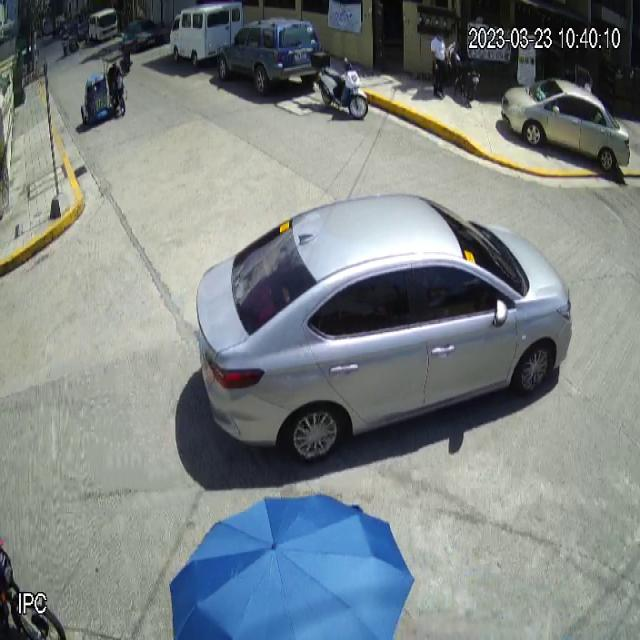Car: (192, 187, 574, 471), (500, 76, 632, 175), (216, 17, 322, 98)
Motorcycle: (311, 49, 371, 125)
Van: (169, 2, 244, 68)
